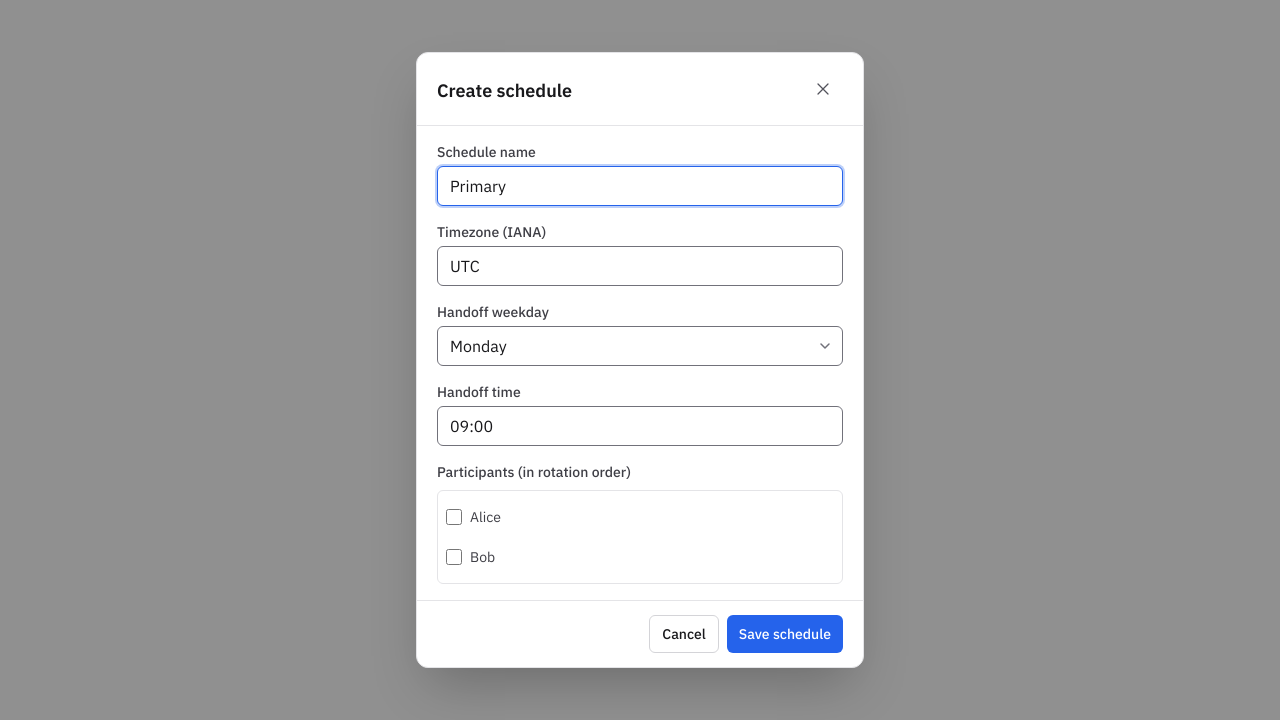
Test: ScheduleFormModal › requires at least one participant
Click the button "Save schedule" at (785, 634), box 727,615 -> 843,653
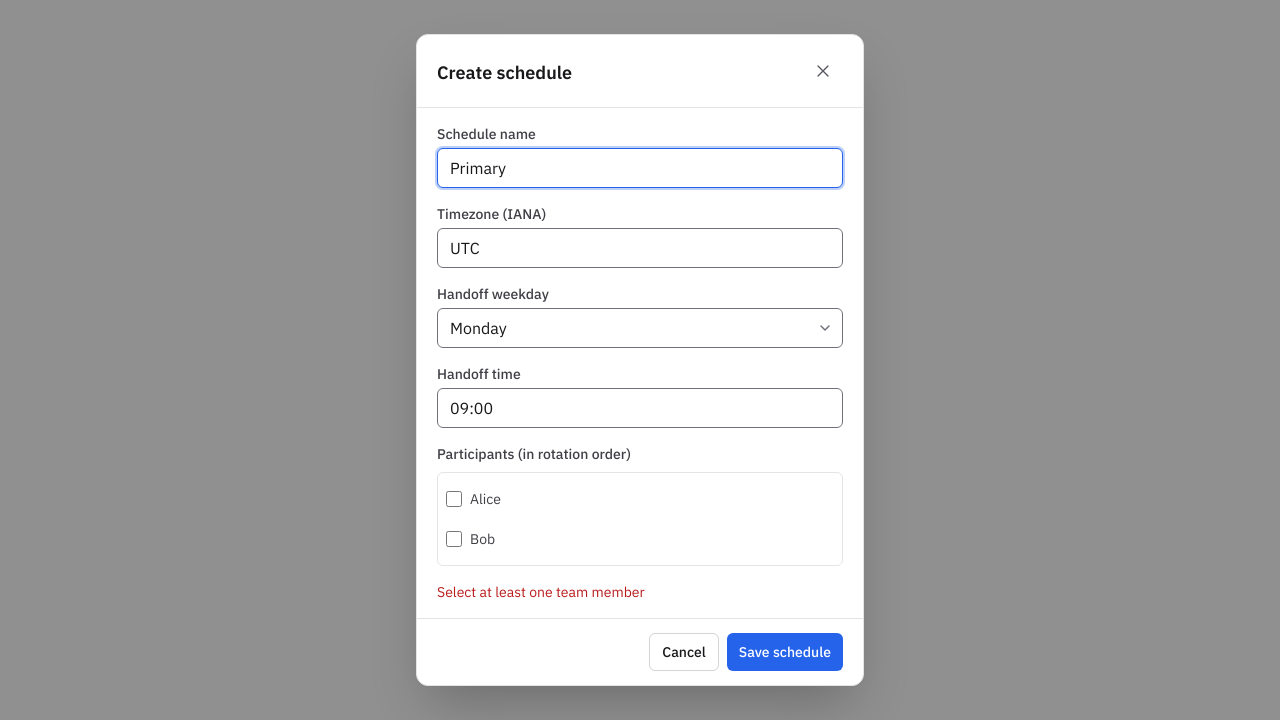
Expected: the text "Select at least one team member" is shown, 437,583 -> 645,601
